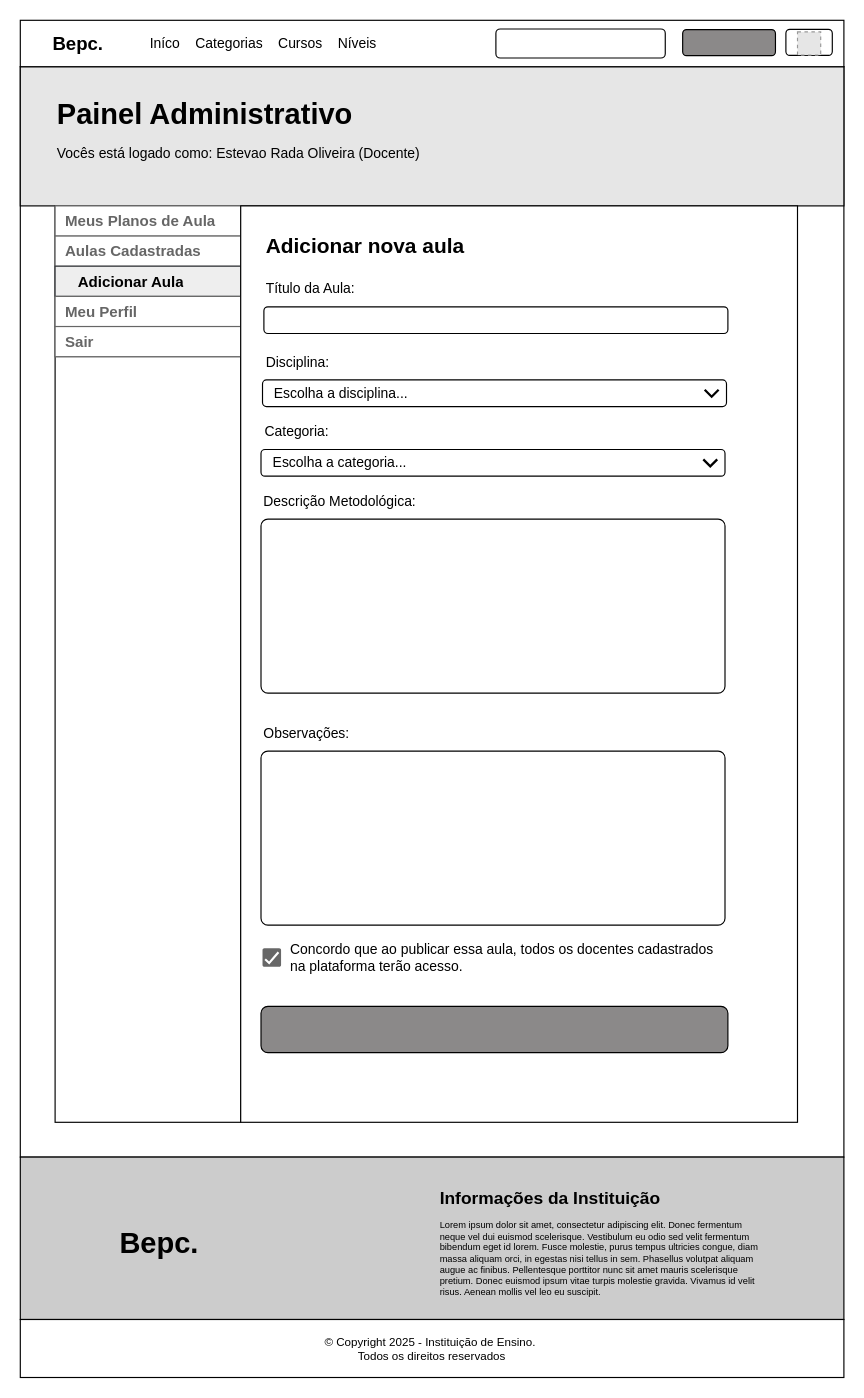
Image size: 864x1398. Some labels were removed from this diagram. Grey dashed boxes stand in for pictures. Each missing label, with the centre of its shape:
"+ Criar Aula" goes at [728,42].
"Buscar..." goes at [580,43].
"Publicar" goes at [494,1029].
